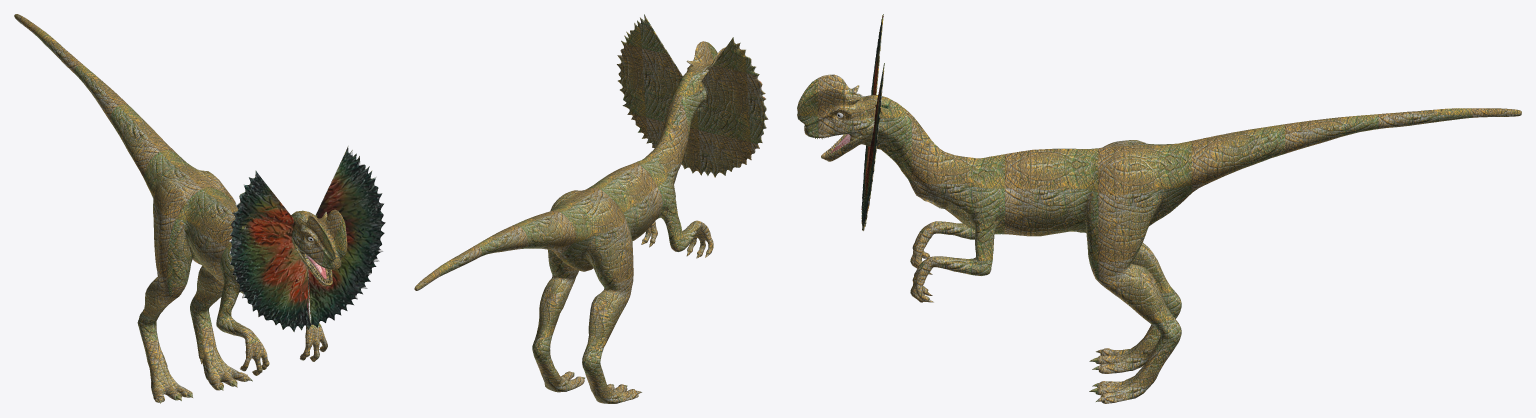
Rendered from dilo.obj.
3 views of the same model, side by side, from view 1: azimuth 30°, elevation 25°; view 2: azimuth 150°, elevation 25°; view 3: azimuth 270°, elevation 25° (orthographic). The views are drawn at different scales.
Parts seen in each view (by area): view 1: Full; view 2: Full; view 3: Full.
Part boxes in pixels (<box>): Full: <box>14,14,385,403</box>; Full: <box>414,14,768,403</box>; Full: <box>797,14,1521,403</box>.
Bounding box in the file's own units: 24.12 × 45.21 × 86.44.
